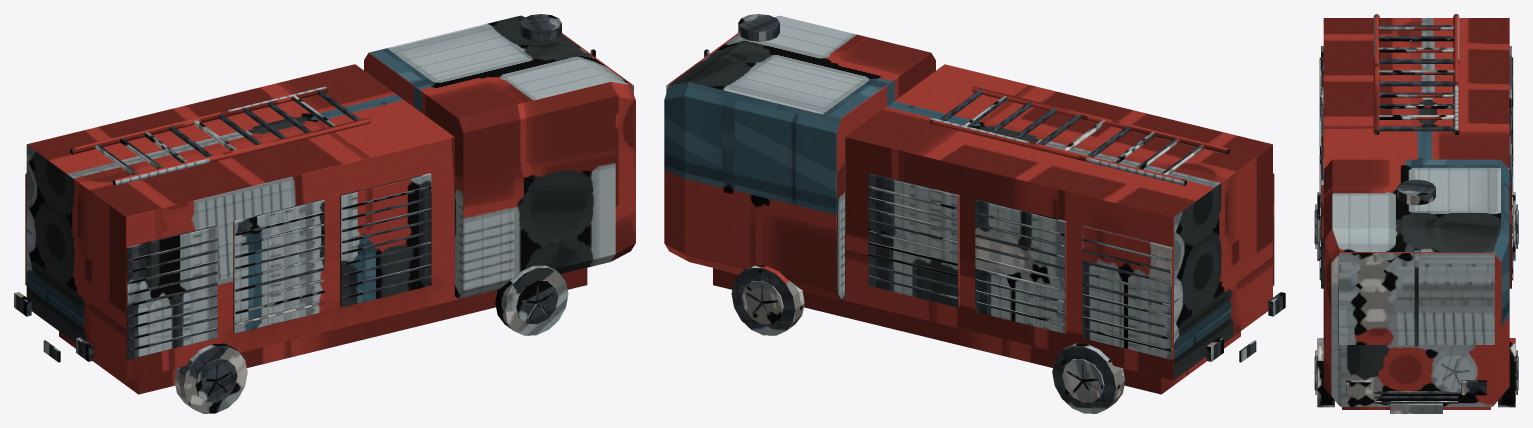
The model's file is fire_engine.obj.
The picture shows the model from 3 angles, left to right: view 1: azimuth 30°, elevation 25°; view 2: azimuth 150°, elevation 25°; view 3: azimuth 270°, elevation 25°; orthographic projection. The views are drawn at different scales.
Parts seen in each view (by area): view 1: fire_engine; view 2: fire_engine; view 3: fire_engine.
Boxes of the visible parts, x1,y1,x2,y2 form: fire_engine: (14, 14, 635, 413); fire_engine: (664, 14, 1285, 413); fire_engine: (1314, 14, 1518, 413).
Bounding box in the file's own units: 6.62 × 3.02 × 2.31.
1 material, 1 textured.
